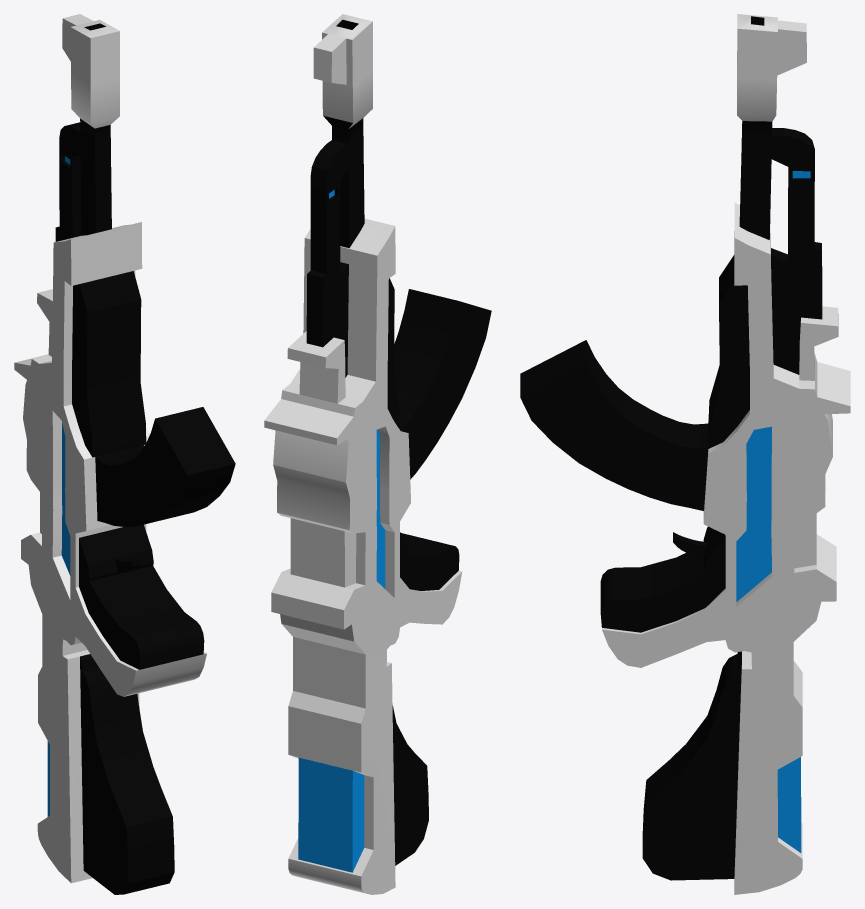
3 views of the same model, side by side, from view 1: azimuth 30°, elevation 25°; view 2: azimuth 150°, elevation 25°; view 3: azimuth 270°, elevation 25° (orthographic). The views are drawn at different scales.
Parts seen in each view (by area): view 1: AC-57; view 2: AC-57; view 3: AC-57.
Part boxes in pixels (left/top/right/bottom): AC-57: left=14, top=14, right=235, bottom=894; AC-57: left=264, top=14, right=491, bottom=894; AC-57: left=520, top=14, right=850, bottom=894.
Bounding box in the file's own units: 28.38 × 321 × 112.
